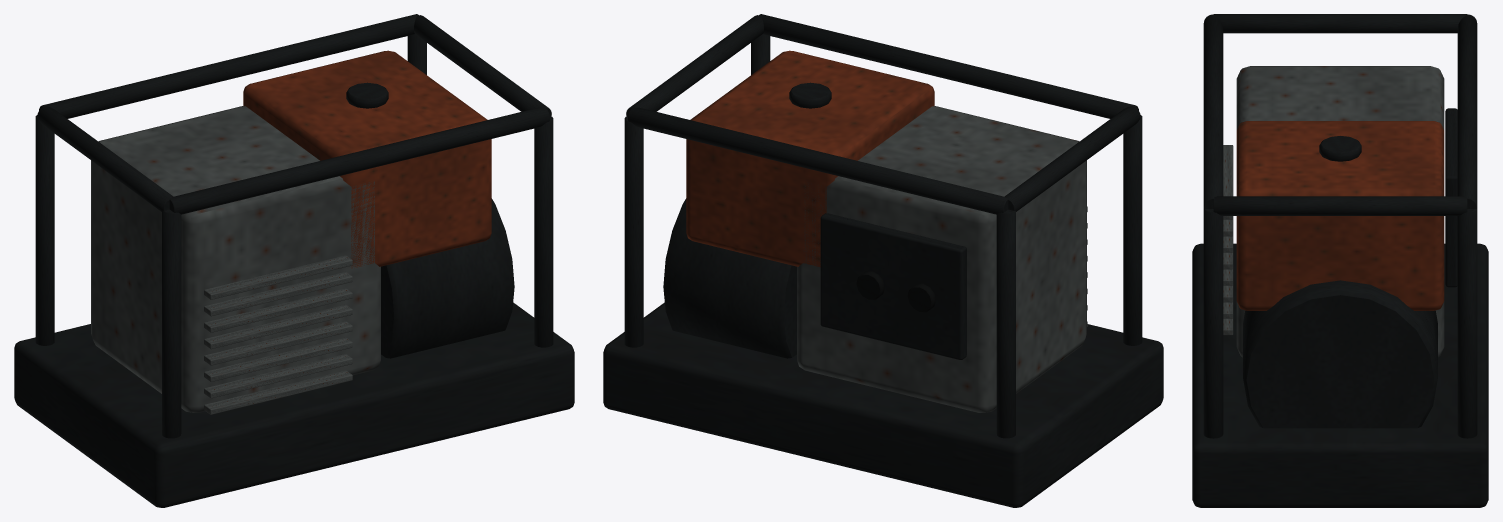
Rendered from generator.glb.
3 renders of one model, left to right at view 1: azimuth 30°, elevation 25°; view 2: azimuth 150°, elevation 25°; view 3: azimuth 270°, elevation 25°, orthographic.
Parts seen in each view (by area): view 1: body_darksteel, body_steel, body_oxide; view 2: body_darksteel, body_steel, body_oxide, body_rubber; view 3: body_darksteel, body_oxide, body_steel.
Boxes of the visible parts, x1,y1,x2,y2 form: body_darksteel: (14, 14, 574, 507); body_steel: (91, 106, 380, 414); body_oxide: (243, 50, 491, 268); body_darksteel: (603, 14, 1163, 507); body_steel: (797, 106, 1087, 412); body_oxide: (686, 50, 934, 267); body_rubber: (856, 271, 935, 312); body_darksteel: (1192, 14, 1488, 507); body_oxide: (1236, 121, 1444, 310); body_steel: (1223, 66, 1444, 357).
Bounding box in the file's own units: 1.15 × 0.788 × 0.7.
4 materials, 4 textured.
